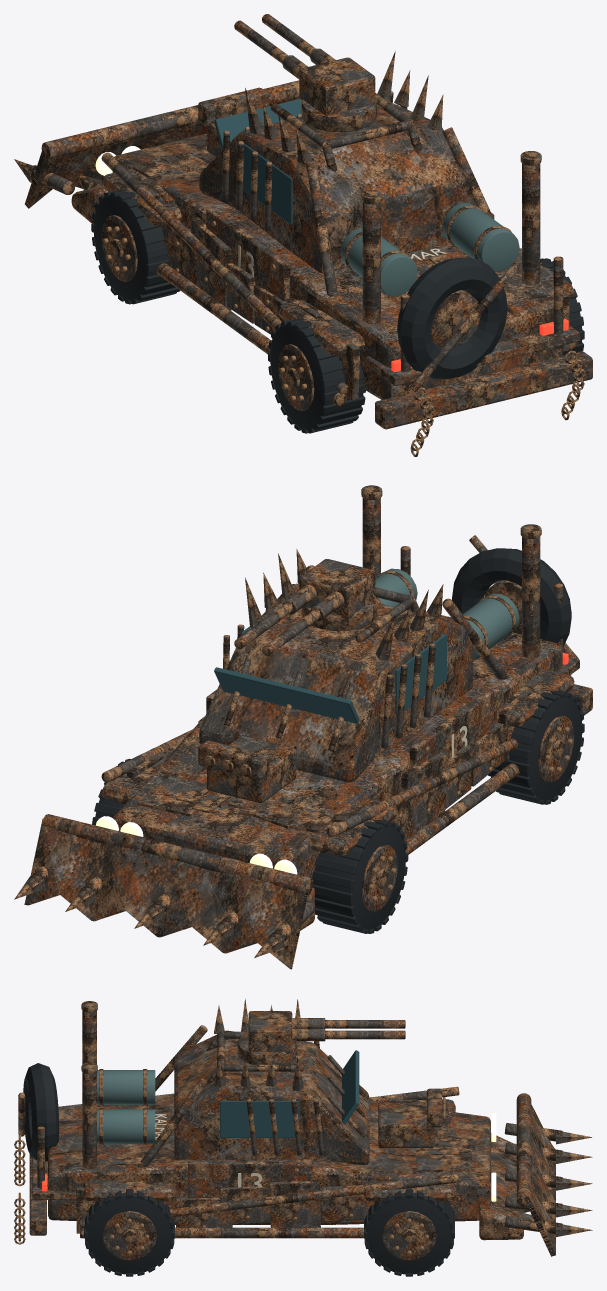
File: raider.glb
The picture shows the model from 3 angles, top to bottom: view 1: azimuth 30°, elevation 25°; view 2: azimuth 150°, elevation 25°; view 3: azimuth 270°, elevation 25°; orthographic projection. The views are drawn at different scales.
Parts seen in each view (by area): view 1: Cabin.001, Armored chassis.001, Strapped rear spare tire.001, Rear bumper.001, Plow top reinforcement.001, Turret housing.001, Jagged welded plow.001, Riveted door armor.002, All terrain tire.005, Nitro tank.003, All terrain tire.004, Diagonal welded brace.002 (+29 smaller); view 2: Cabin.001, Armored chassis.001, Jagged welded plow.001, Strapped rear spare tire.001, Plow top reinforcement.001, All terrain tire.004, Supercharger.001, Armored windscreen.001, All terrain tire.005, Turret housing.001, Riveted door armor.002, Diagonal welded brace.002 (+25 smaller); view 3: Armored chassis.001, Cabin.001, All terrain tire.006, All terrain tire.007, Riveted door armor.003, Diagonal welded brace.003, Strapped rear spare tire.001, Front ram.001, Side glass.003, Supercharger.001, Jagged welded plow.001, Side rock slider.003 (+32 smaller).
Part boxes in pixels (box(x1,y1,x2,y2)): Cabin.001: box(199, 102, 472, 273); Armored chassis.001: box(112, 133, 562, 399); Strapped rear spare tire.001: box(397, 257, 507, 379); Rear bumper.001: box(375, 351, 592, 429); Plow top reinforcement.001: box(41, 80, 299, 160); Turret housing.001: box(299, 57, 375, 115); Jagged welded plow.001: box(25, 123, 206, 208); Riveted door armor.002: box(206, 207, 290, 300); All terrain tire.005: box(270, 323, 363, 430); Nitro tank.003: box(442, 203, 519, 271); All terrain tire.004: box(94, 194, 173, 301); Diagonal welded brace.002: box(101, 152, 348, 394); Cabin.001: box(199, 583, 472, 782); Armored chassis.001: box(113, 609, 562, 881); Jagged welded plow.001: box(24, 819, 308, 969); Strapped rear spare tire.001: box(452, 548, 571, 646); Plow top reinforcement.001: box(41, 814, 313, 895); All terrain tire.004: box(313, 824, 405, 931); Supercharger.001: box(207, 736, 296, 803); Armored windscreen.001: box(214, 667, 359, 723); All terrain tire.005: box(491, 694, 582, 802); Turret housing.001: box(299, 559, 375, 618); Riveted door armor.002: box(410, 690, 494, 767); Diagonal welded brace.002: box(326, 738, 518, 837); Armored chassis.001: box(48, 1093, 490, 1224); Cabin.001: box(174, 1030, 369, 1164); All terrain tire.006: box(366, 1193, 452, 1274); All terrain tire.007: box(86, 1193, 172, 1274); Riveted door armor.003: box(188, 1161, 312, 1198); Diagonal welded brace.003: box(79, 1173, 459, 1228); Strapped rear spare tire.001: box(23, 1063, 59, 1161); Front ram.001: box(479, 1133, 523, 1240); Side glass.003: box(220, 1101, 299, 1137); Supercharger.001: box(378, 1103, 434, 1147); Jagged welded plow.001: box(524, 1104, 555, 1256); Side rock slider.003: box(80, 1227, 363, 1238).
Bounding box in the file's own units: 2.54 × 2.35 × 5.96.
Materials: 11 (5 with a texture image).
